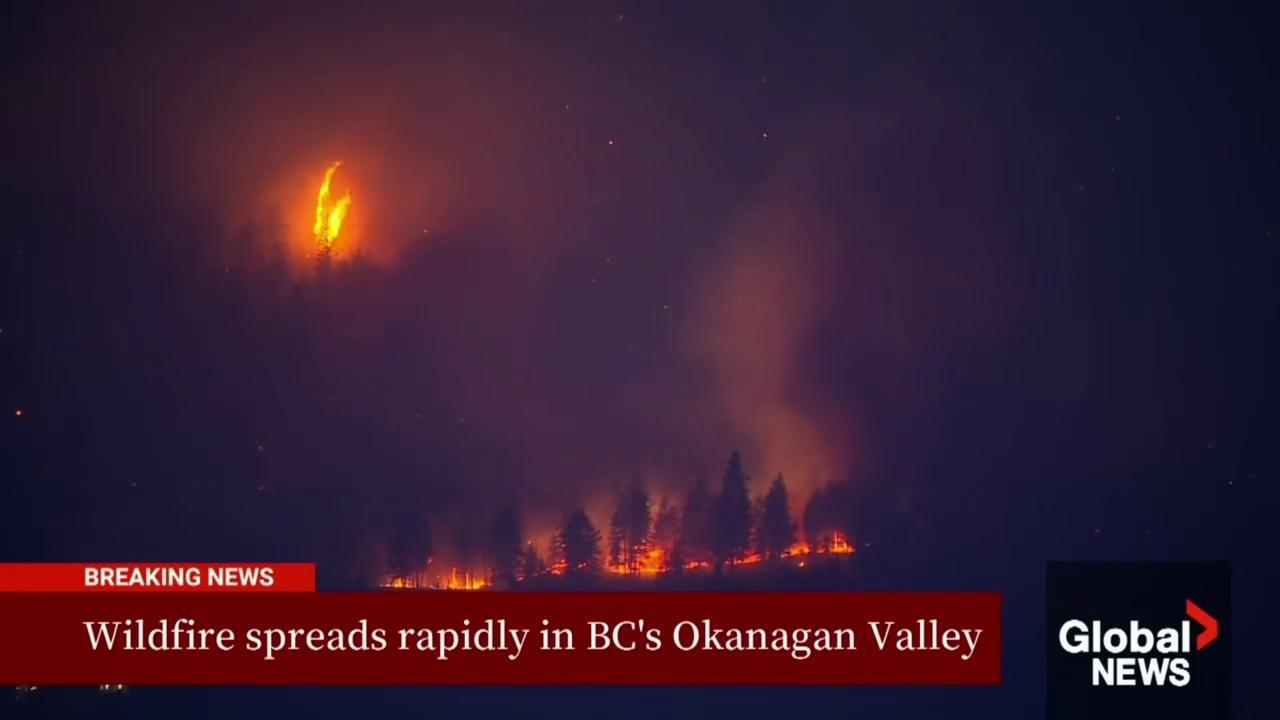fire: (373, 525, 858, 589), (311, 155, 354, 256)
smoke: (93, 0, 556, 281), (669, 155, 876, 520)
